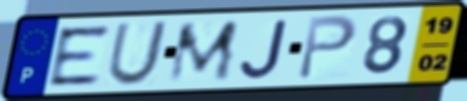8: (361, 15, 411, 77)
E: (47, 23, 113, 89)
J: (238, 18, 291, 81)
M: (165, 18, 243, 85)
P: (294, 13, 359, 82)
U: (104, 19, 171, 88)
